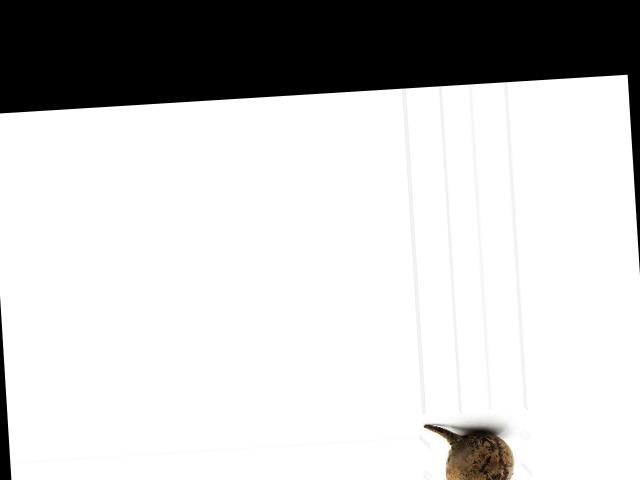beet: (424, 419, 517, 480)
